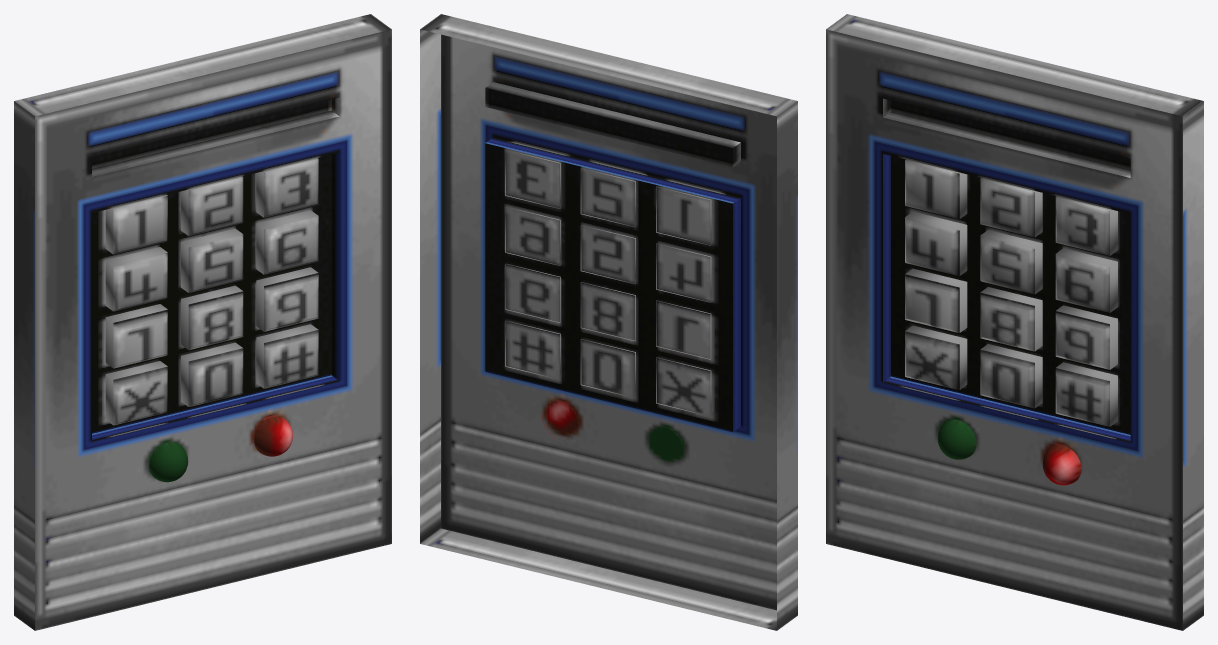
Rendered from keypad.FBX.
The picture shows the model from 3 angles, left to right: view 1: azimuth 30°, elevation 25°; view 2: azimuth 150°, elevation 25°; view 3: azimuth 330°, elevation 25°; orthographic projection.
Parts seen in each view (by area): view 1: keypad; view 2: keypad; view 3: keypad.
Part boxes in pixels (box(x1,y1,x2,y2)): keypad: box(14, 14, 391, 630); keypad: box(420, 14, 797, 630); keypad: box(826, 14, 1203, 630).
Size of the model in its own units: 98 by 14.87 by 135.
